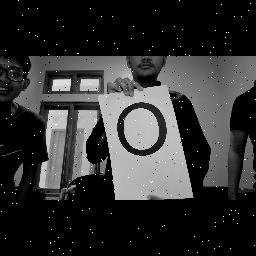o: (114, 98, 174, 162)
